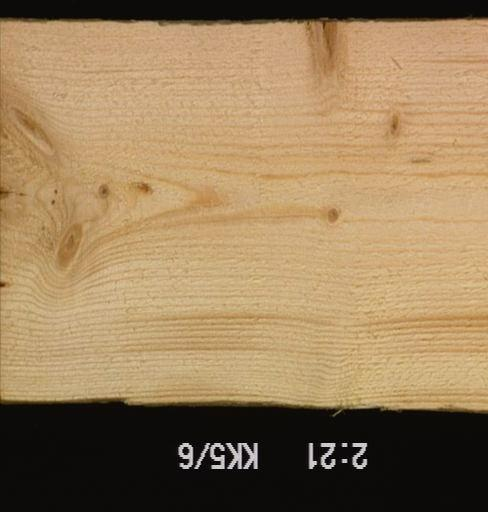small_knot: (381, 110, 405, 143), (93, 180, 114, 206), (321, 203, 342, 227)
split: (1, 183, 61, 208)
wave: (63, 394, 126, 408)
